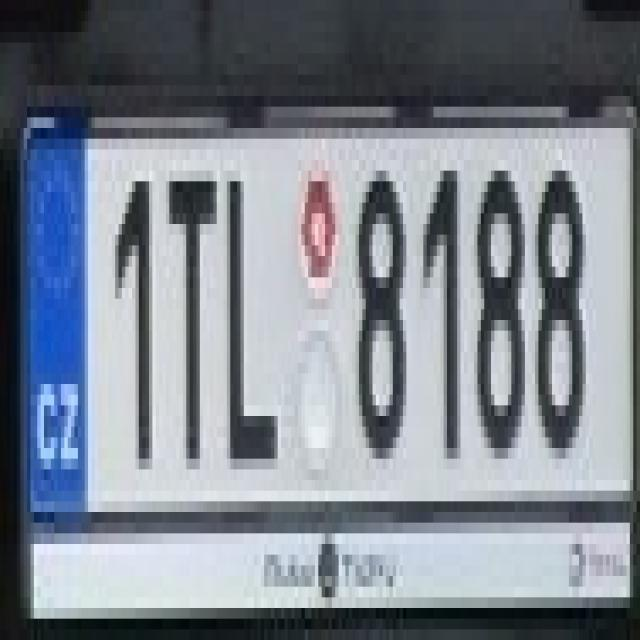1: (410, 138, 464, 448), (101, 149, 156, 448)
8: (345, 138, 403, 448), (528, 149, 586, 448), (467, 149, 525, 448)
L: (217, 149, 274, 459)
T: (156, 149, 210, 459)
